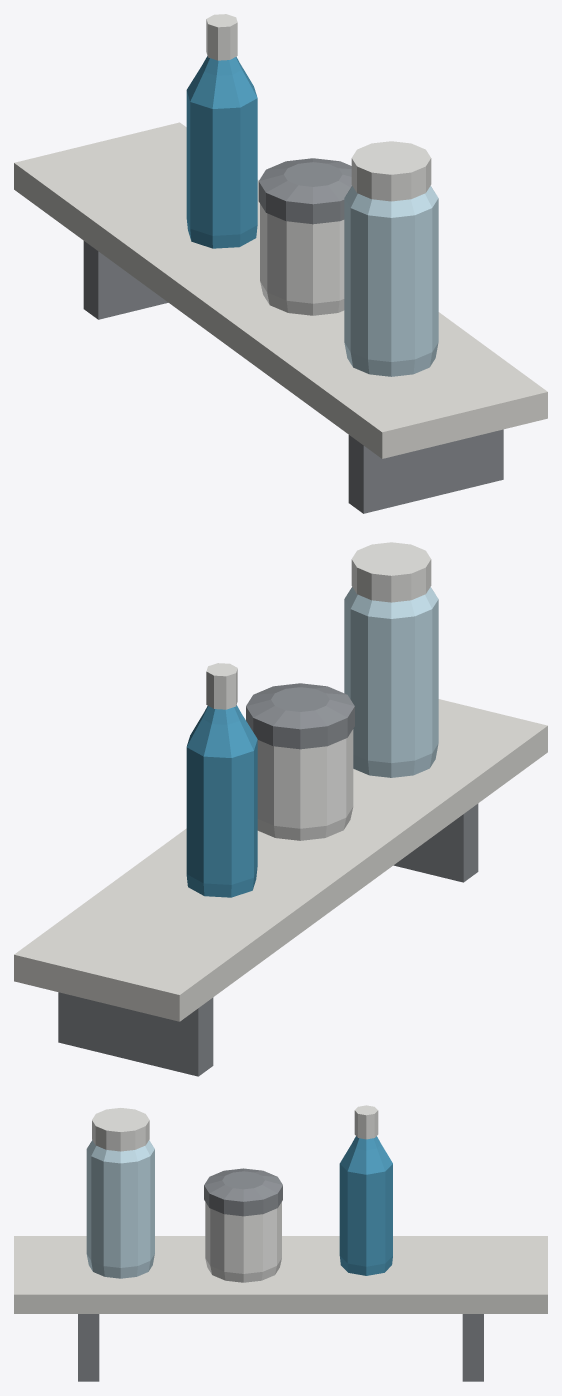
Rendered from EstanteBano.fbx.
3 views of the same model, one above another, from view 1: azimuth 30°, elevation 25°; view 2: azimuth 150°, elevation 25°; view 3: azimuth 270°, elevation 25° (orthographic). The views are drawn at different scales.
Parts seen in each view (by area): view 1: Deco_Estante_Frascos; view 2: Deco_Estante_Frascos; view 3: Deco_Estante_Frascos.
Boxes of the visible parts, left/top/right/bottom form: Deco_Estante_Frascos: left=14, top=14, right=547, bottom=513; Deco_Estante_Frascos: left=14, top=542, right=547, bottom=1076; Deco_Estante_Frascos: left=14, top=1105, right=547, bottom=1381.
Bounding box in the file's own units: 0.13 × 0.25 × 0.5.
